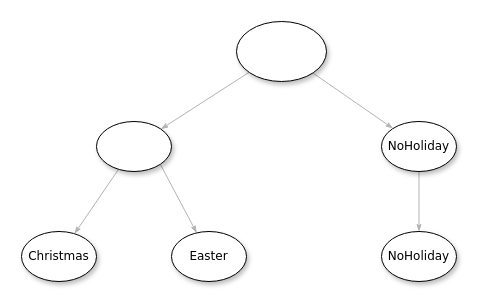
Some shapes in this 480 by 306 pixel diagram are drawn without their labels. Each missing label, with the centre of its shape:
"All" belongs at (282,52).
"Holiday" belongs at (135,147).
